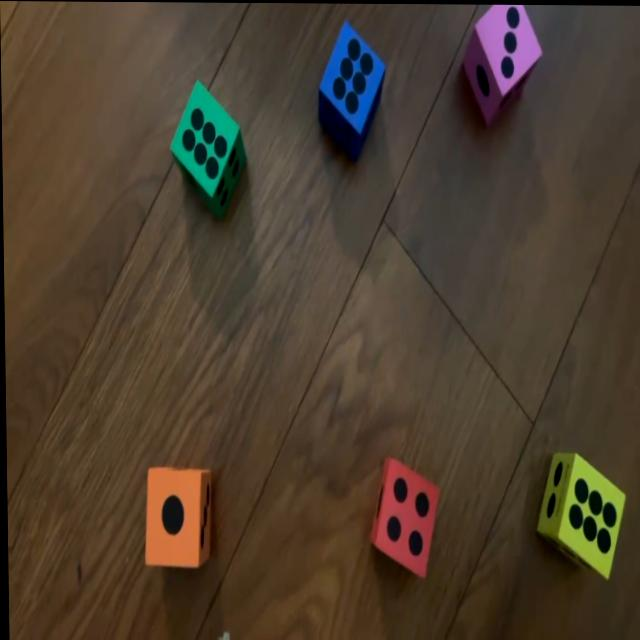cube: (169, 78, 246, 220), (317, 18, 386, 157), (369, 457, 440, 576)
